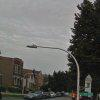Tree: (57, 5, 100, 69)
